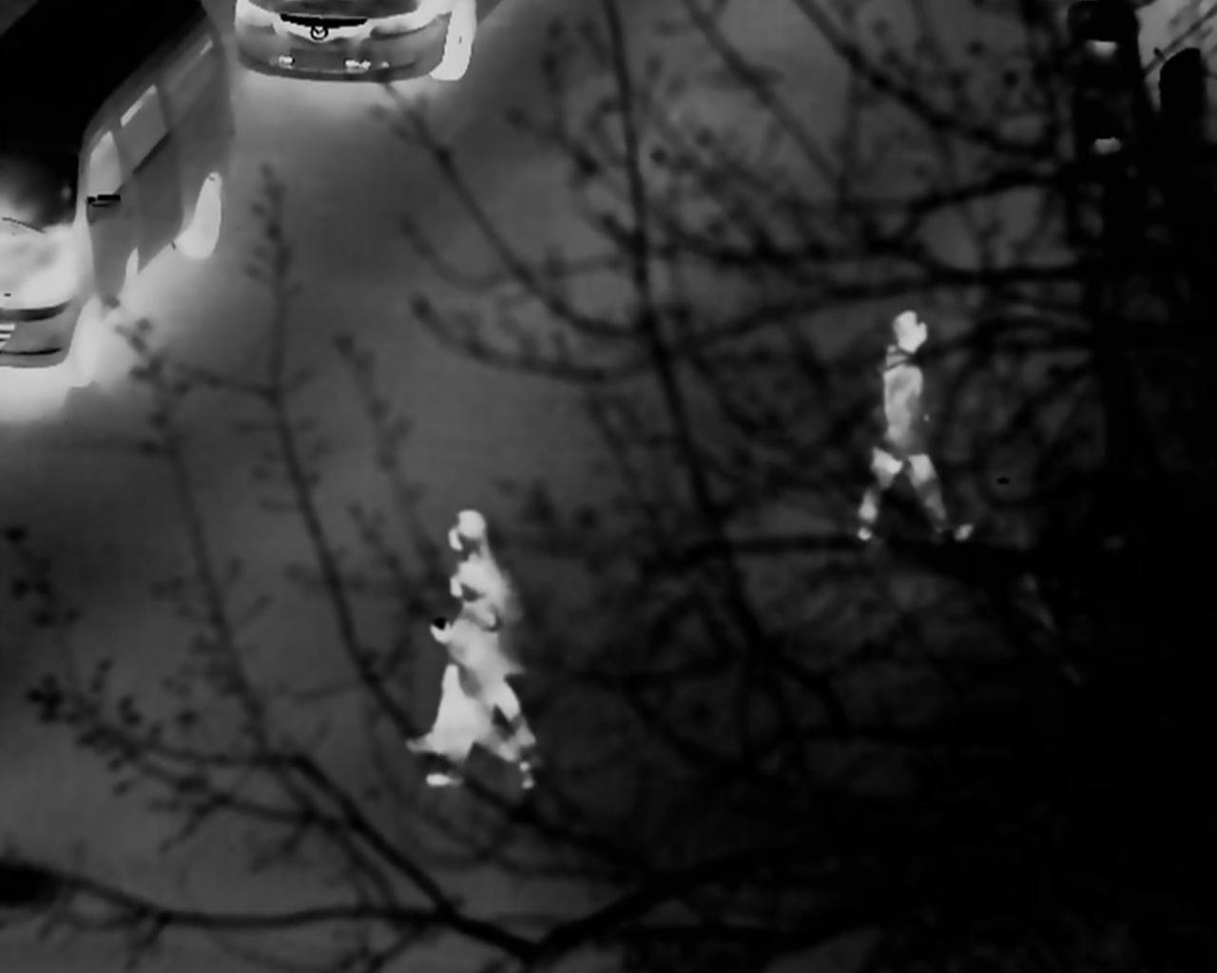person: (404, 506, 542, 758), (852, 301, 983, 555), (426, 568, 547, 796)
